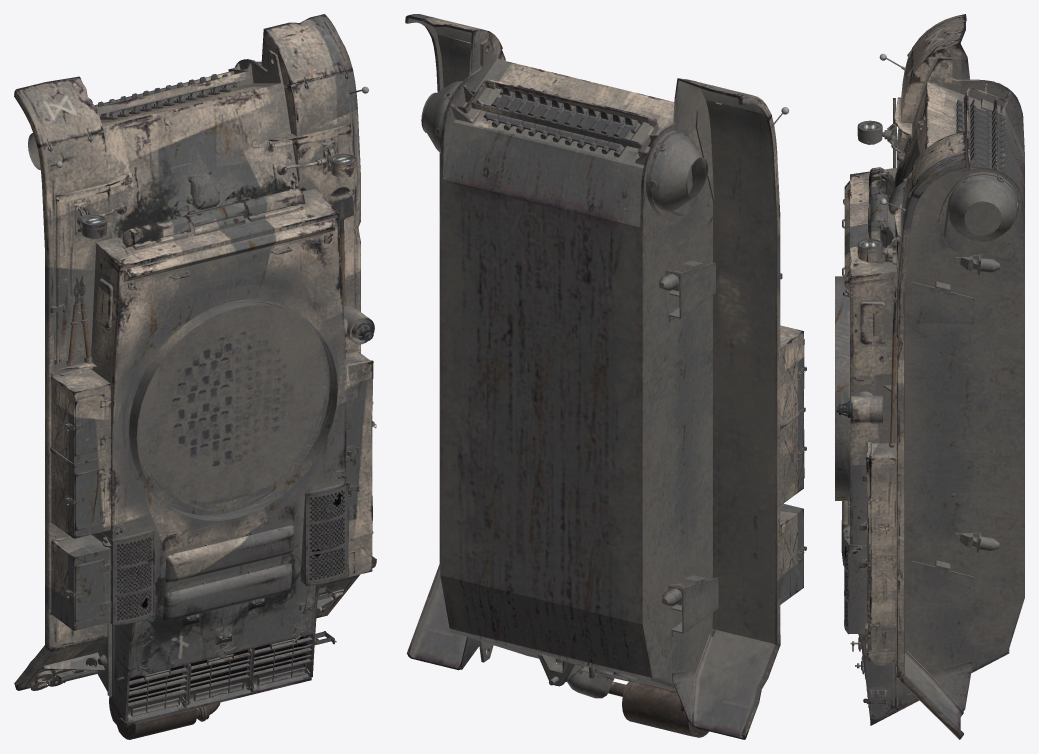
File: Hull.glb
3 renders of one model, left to right at view 1: azimuth 30°, elevation 25°; view 2: azimuth 150°, elevation 25°; view 3: azimuth 270°, elevation 25°, orthographic. The views are drawn at different scales.
Parts seen in each view (by area): view 1: set_0_group_0; view 2: set_0_group_0; view 3: set_0_group_0.
Part boxes in pixels (x1,y1,x2,y2): set_0_group_0: (14, 14, 376, 739); set_0_group_0: (405, 14, 806, 739); set_0_group_0: (835, 14, 1024, 739).
Bounding box in the file's own units: 2.53 × 4.84 × 1.35.
1 material, 1 textured.
